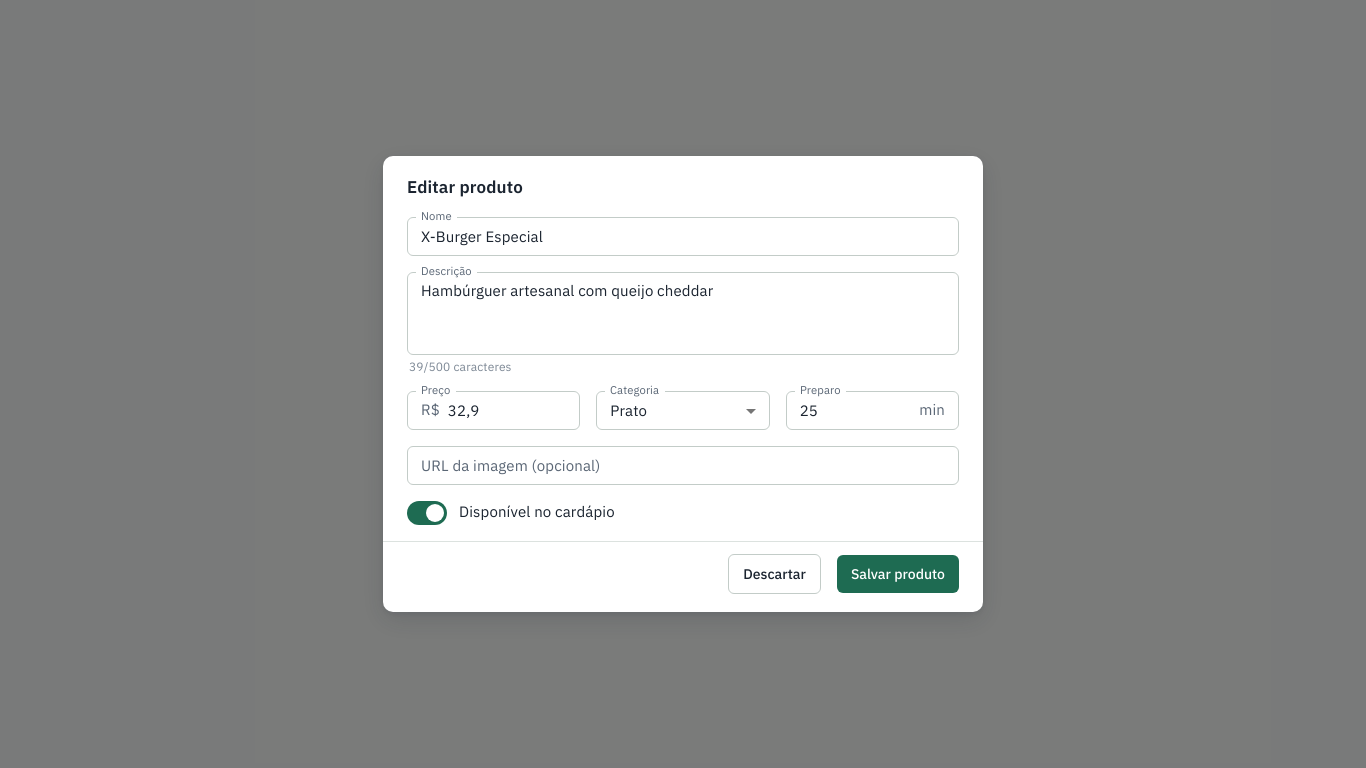
Test: ProductFormDialog › shows server-side field errors next to the field
The image size is (1366, 768).
Click the button "Salvar produto". click: (898, 574)
box: [837,555,959,593]
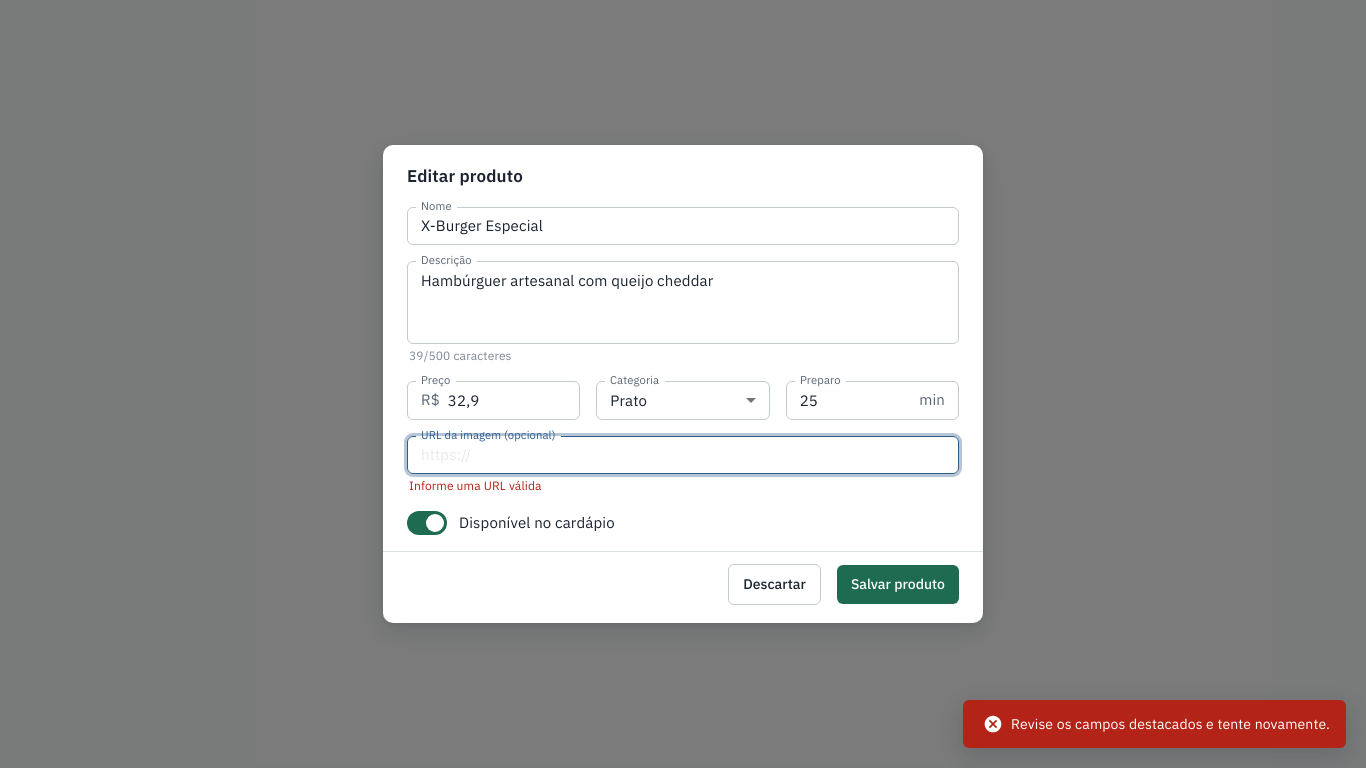
Expected: the text "Informe uma URL válida" is shown, [409,478,542,493]
Expected: the text "Revise os campos destacados e tente novamente." is shown, [983,714,1330,734]
